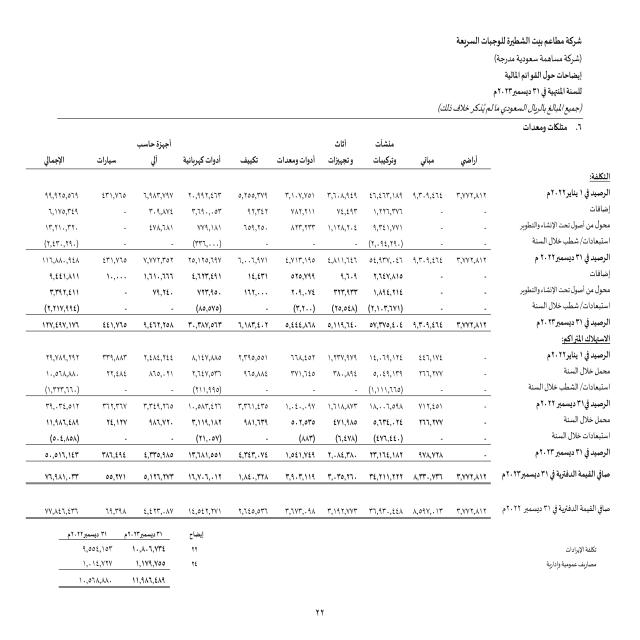notes: (481, 67, 586, 83)
table: (13, 132, 494, 488), (2, 502, 619, 600)
